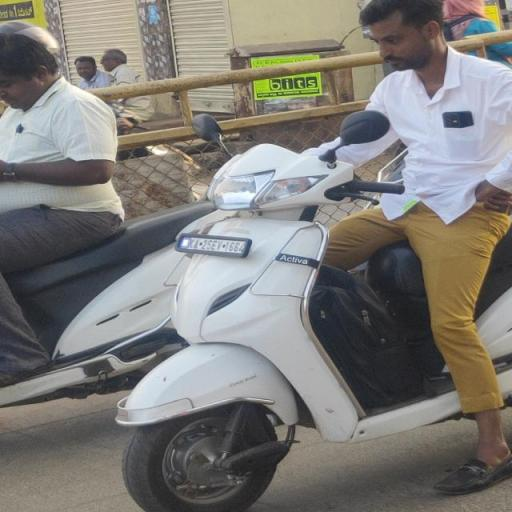bike: (113, 0, 512, 512)
numberplate: (174, 231, 253, 260)
withouthelmet: (359, 2, 446, 64)
